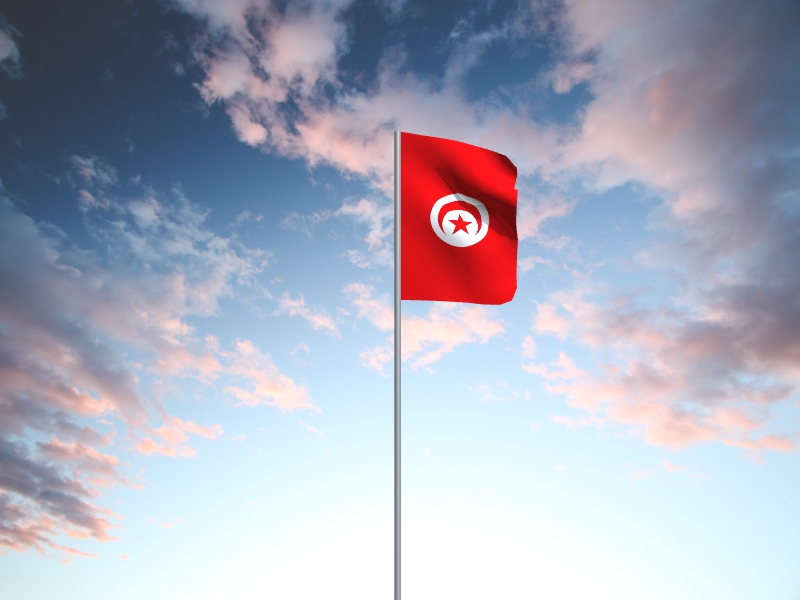tn: (401, 132, 519, 306)
